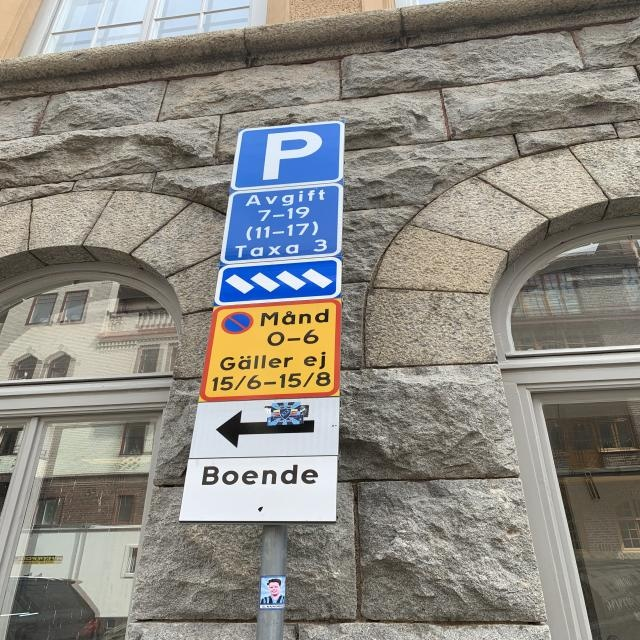P-skylt: (230, 118, 348, 192)
